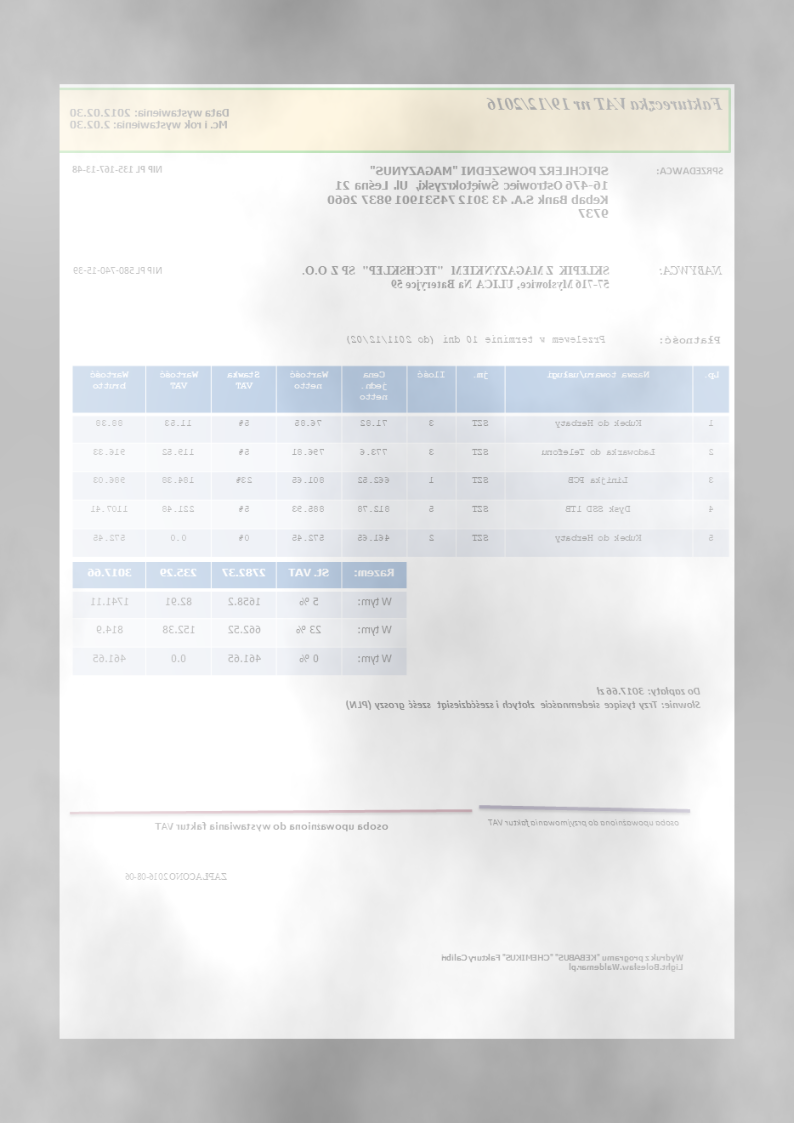Table: (71, 363, 731, 559), (71, 561, 408, 677)
TextBox: (325, 162, 611, 220), (344, 683, 703, 713), (302, 263, 611, 292), (439, 950, 685, 972), (485, 94, 724, 115), (345, 331, 608, 348), (68, 105, 231, 131), (155, 819, 391, 834), (486, 816, 682, 831), (123, 869, 230, 883), (71, 264, 164, 278), (69, 162, 164, 175), (657, 261, 725, 278), (656, 163, 725, 178), (656, 332, 723, 346)
